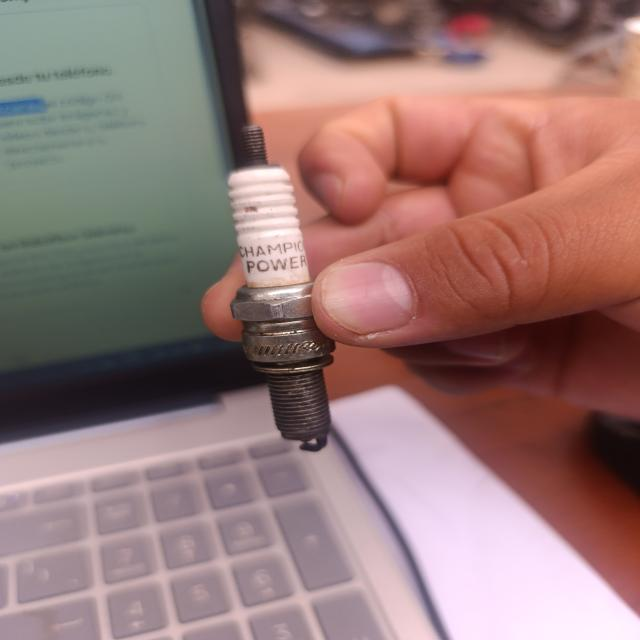bujia: (229, 127, 335, 451)
